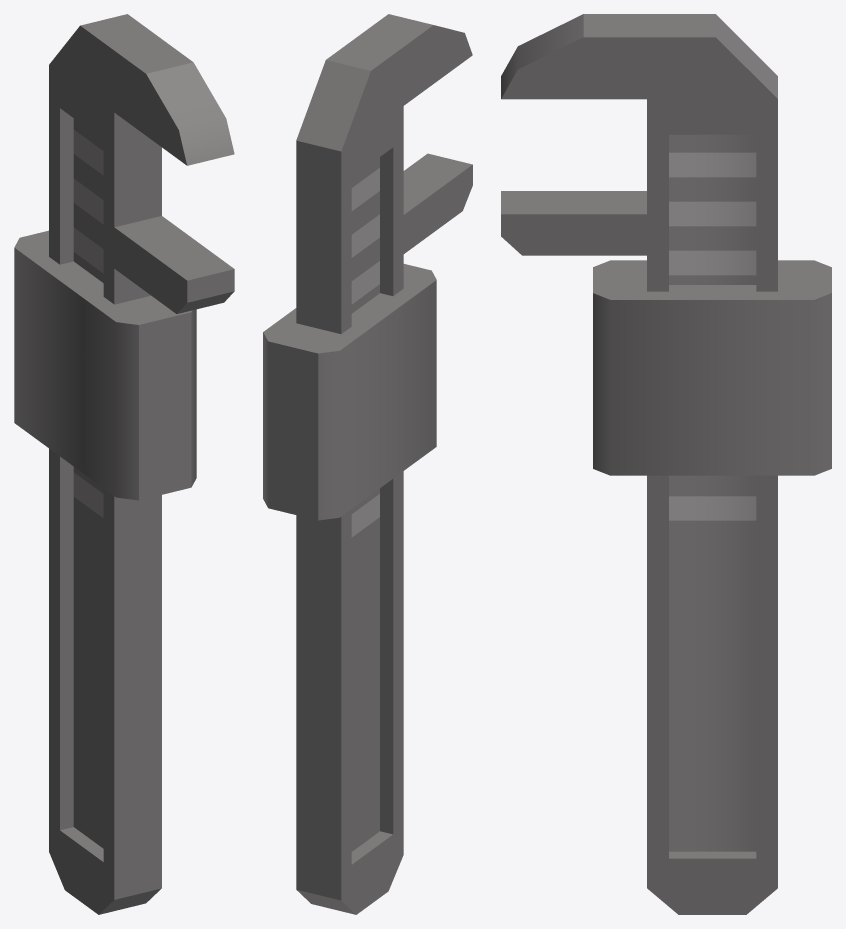
Rendered from wrench.glb.
The picture shows the model from 3 angles, left to right: view 1: azimuth 30°, elevation 25°; view 2: azimuth 150°, elevation 25°; view 3: azimuth 270°, elevation 25°; orthographic projection. The views are drawn at different scales.
Visible parts, largest first — view 1: Wrench; view 2: Wrench; view 3: Wrench.
Part boxes in pixels (x1,y1,x2,y2): Wrench: (14,14,234,914); Wrench: (263,14,472,914); Wrench: (501,14,831,914).
Bounding box in the file's own units: 0.0523 × 0.5434 × 0.1856.
Materials: 1 (1 with a texture image).
